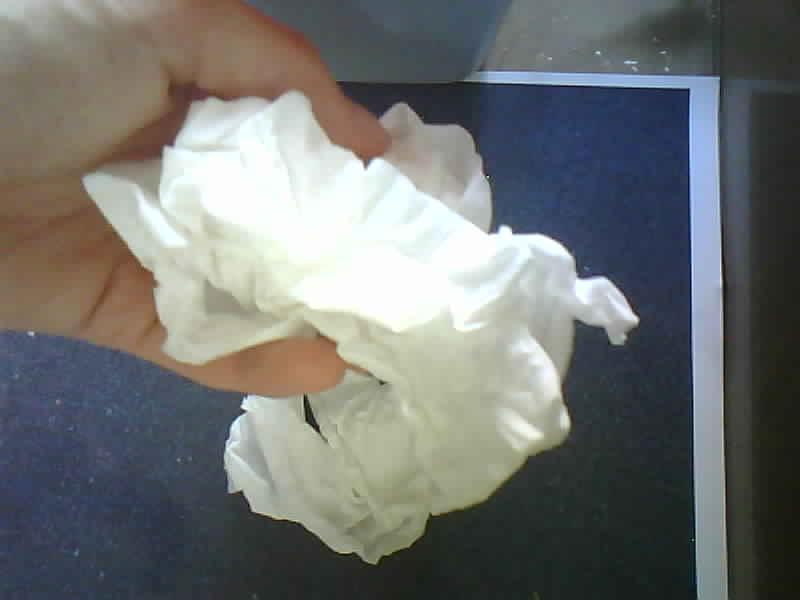paper: (83, 91, 638, 562)
